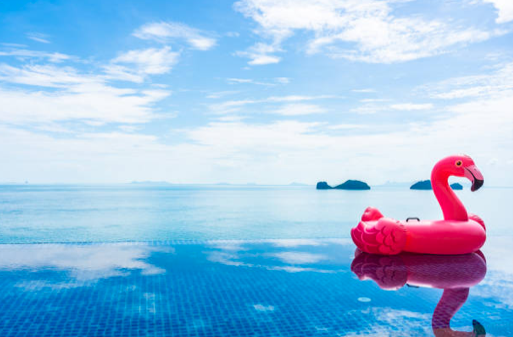Flamingo: (351, 153, 487, 257)
